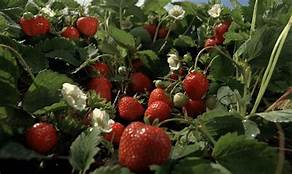Fresa: (115, 118, 177, 171), (19, 117, 60, 153), (180, 66, 213, 102), (86, 73, 117, 103), (114, 92, 146, 121), (143, 98, 173, 121), (75, 14, 101, 38)
